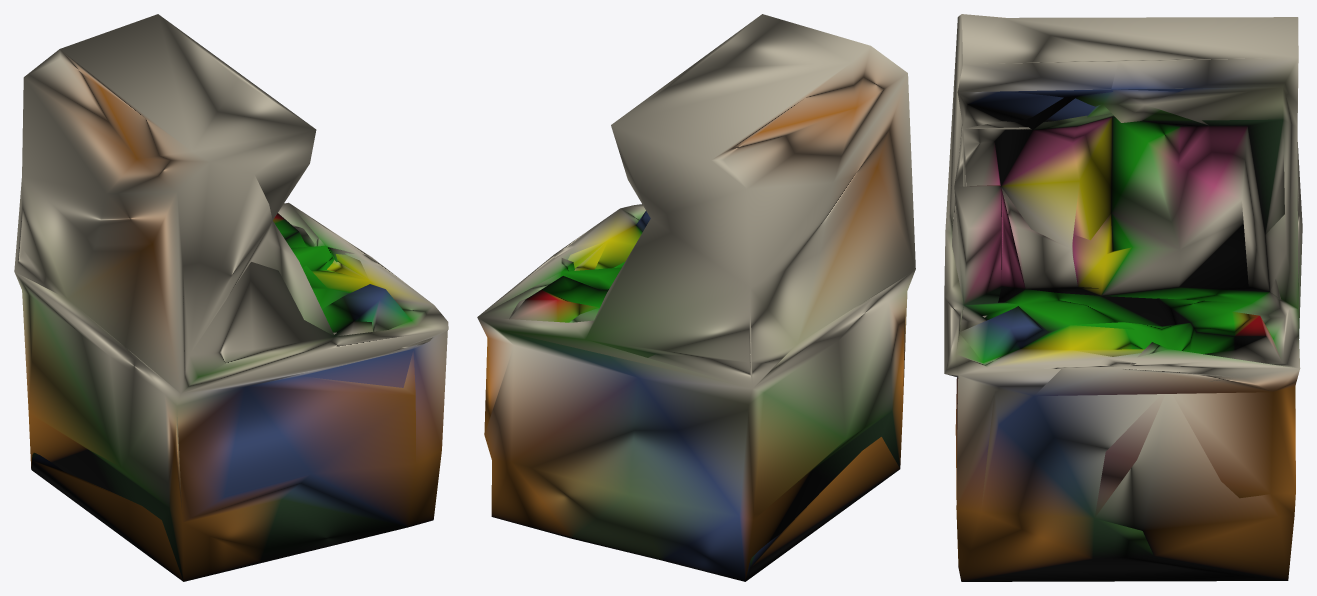
The model's file is gen3d-slot-machine-lod1.glb.
3 views of the same model, side by side, from view 1: azimuth 30°, elevation 25°; view 2: azimuth 150°, elevation 25°; view 3: azimuth 270°, elevation 25° (orthographic). The views are drawn at different scales.
Visible parts, largest first — view 1: part_0; view 2: part_0; view 3: part_0.
Part boxes in pixels (x1=…): part_0: x1=14, y1=14, x2=448, y2=581; part_0: x1=477, y1=14, x2=915, y2=581; part_0: x1=944, y1=14, x2=1302, y2=581.
Bounding box in the file's own units: 0.6768 × 0.9912 × 0.6964.
